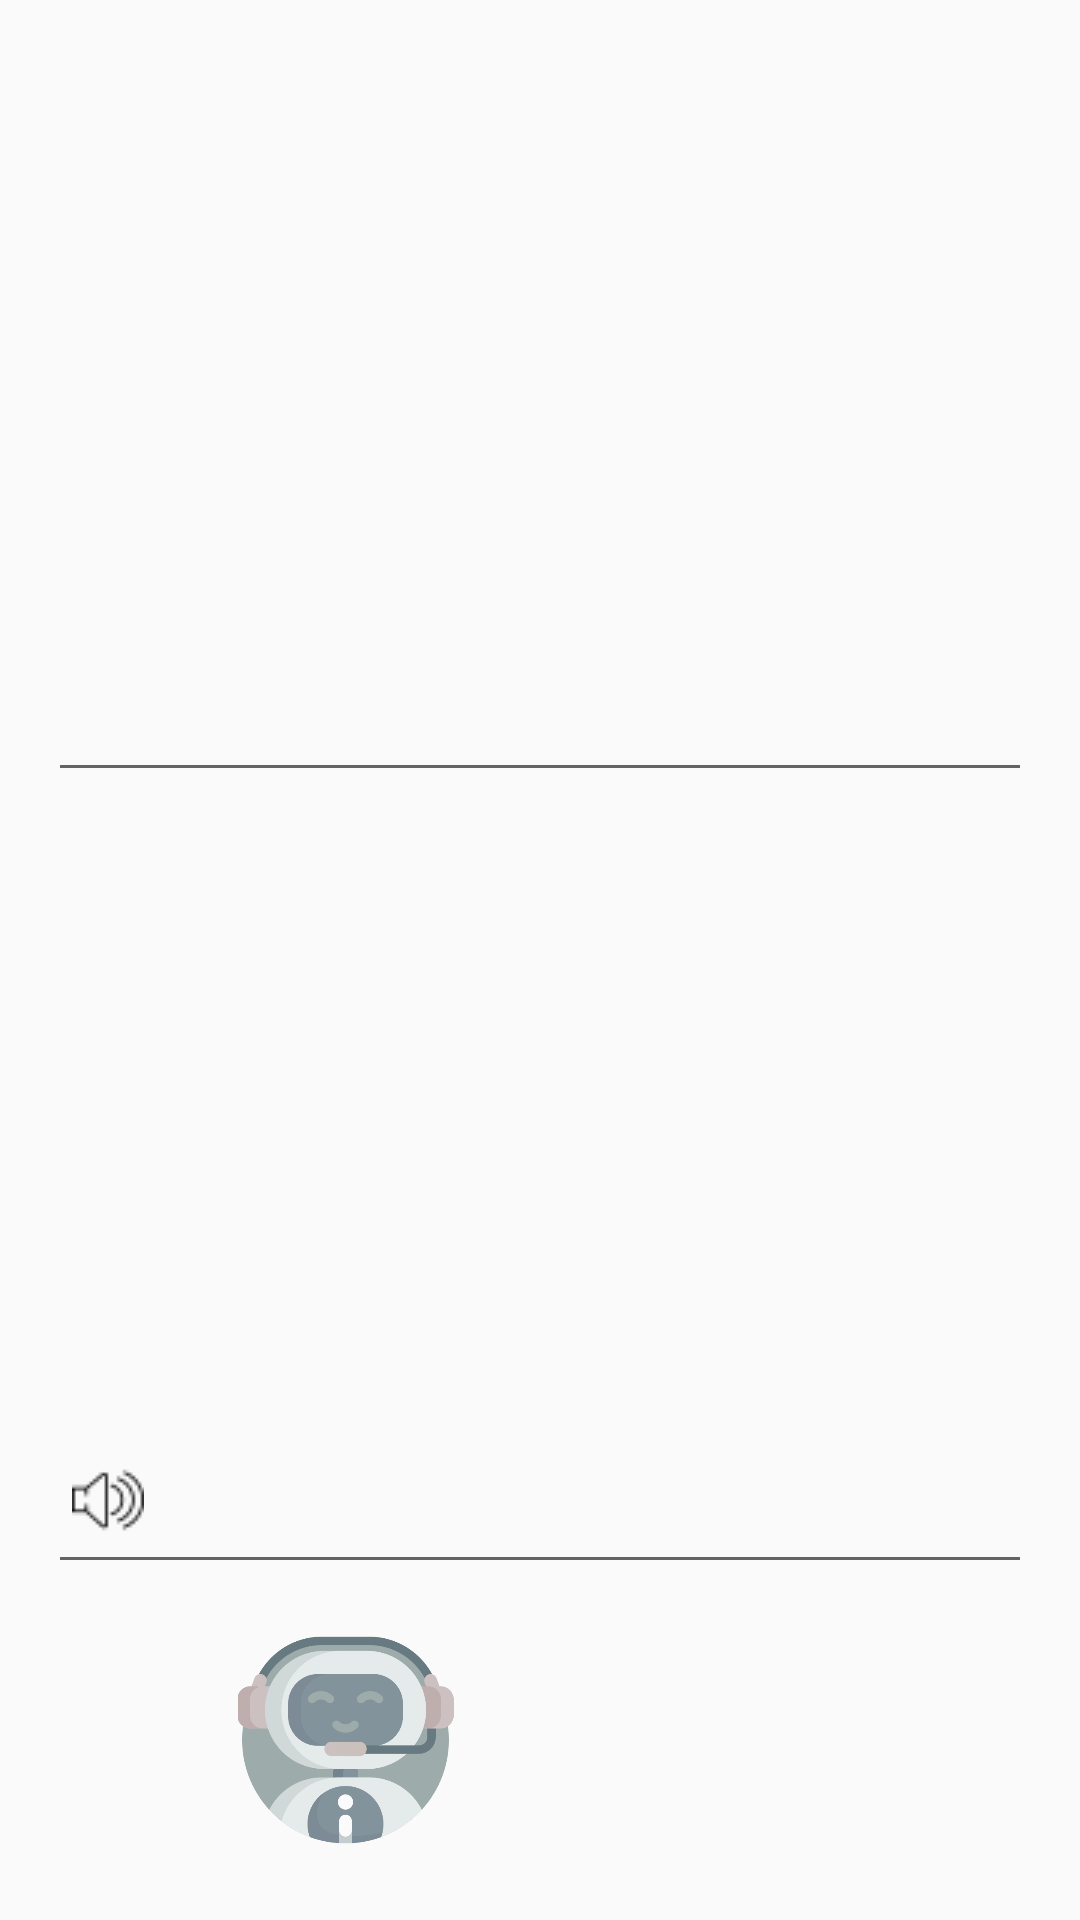

Icons on this 1080w x 1920h Android screen, each with its box as (x1, y1, x2, y2):
speaker: (72, 1469, 144, 1531)
